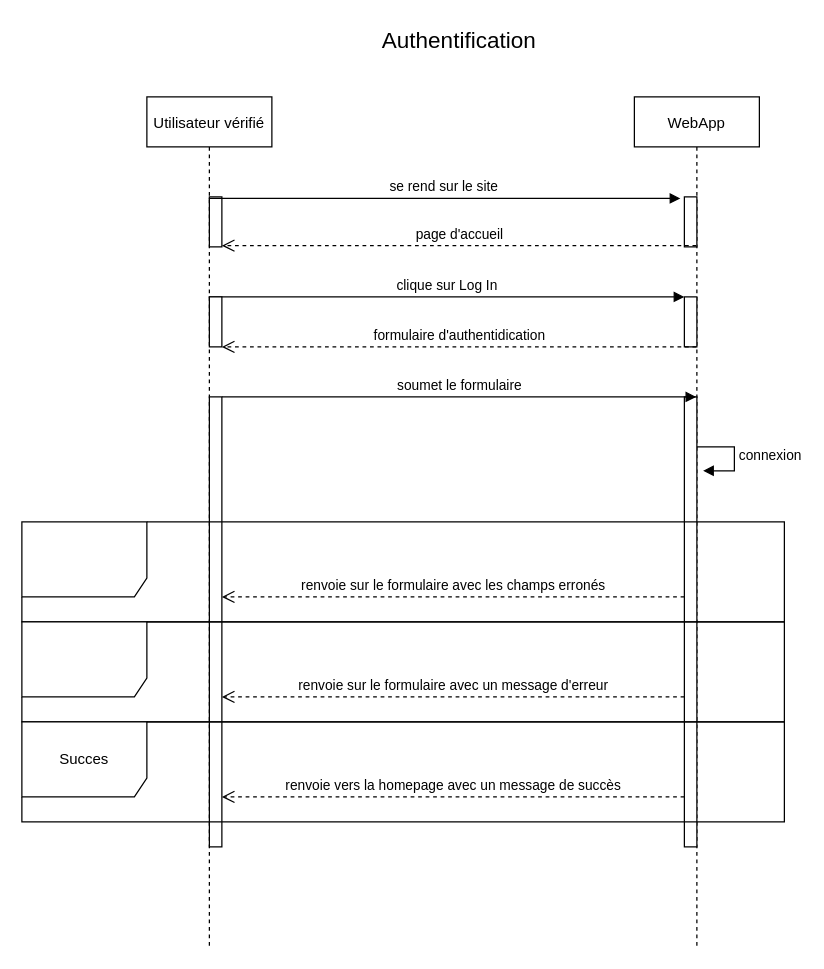
This 824x969 diagram has some shape labels left out. Each missing label, with the centre of its shape:
Erreur d'authentification: (x=402, y=671)
Validation erronée: (x=402, y=571)
